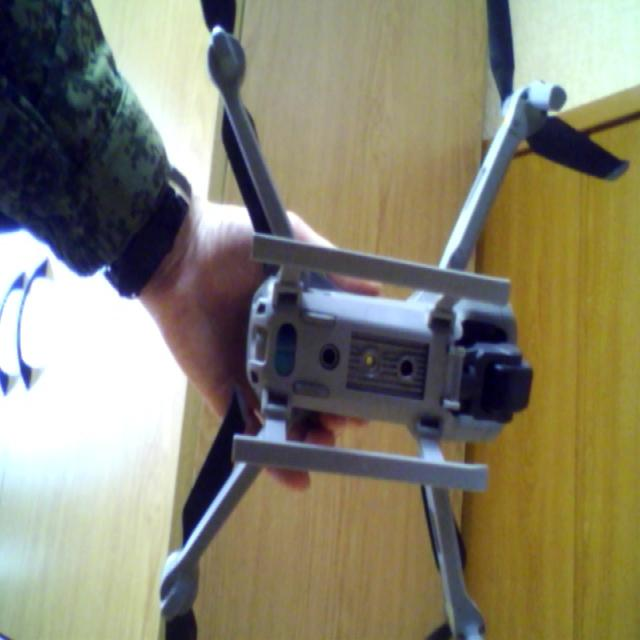drone: (155, 0, 572, 640)
